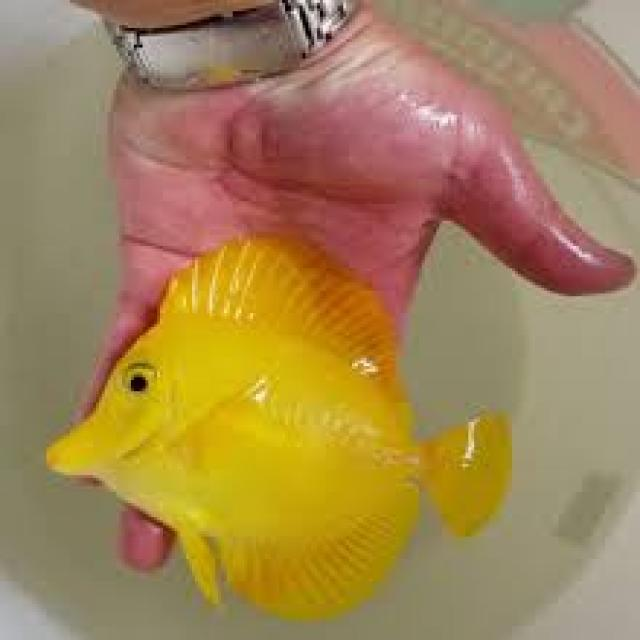YellowTang: (45, 237, 531, 614)
